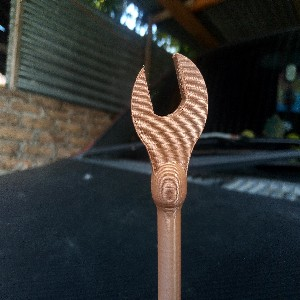spanner: (130, 52, 208, 300)
